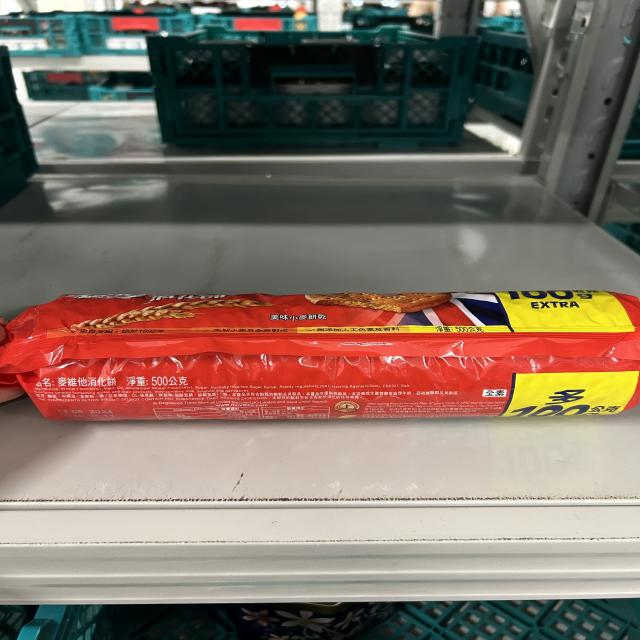object_name: (24, 292, 640, 417)
